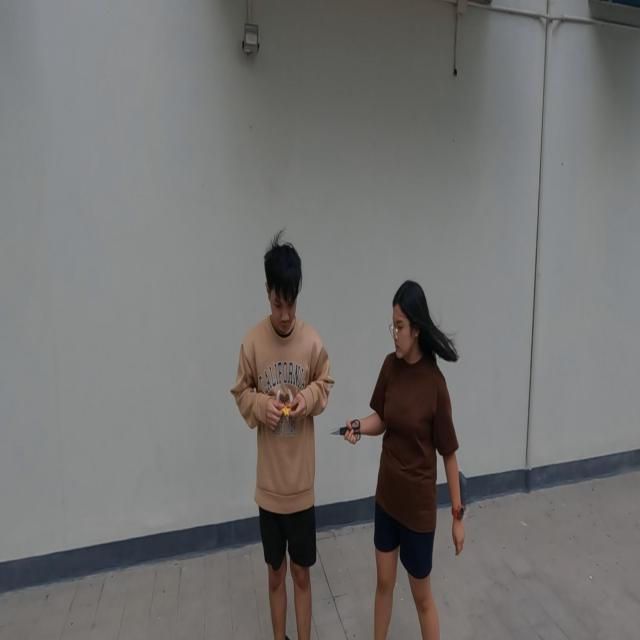scissor: (329, 419, 360, 443), (281, 403, 292, 432)
